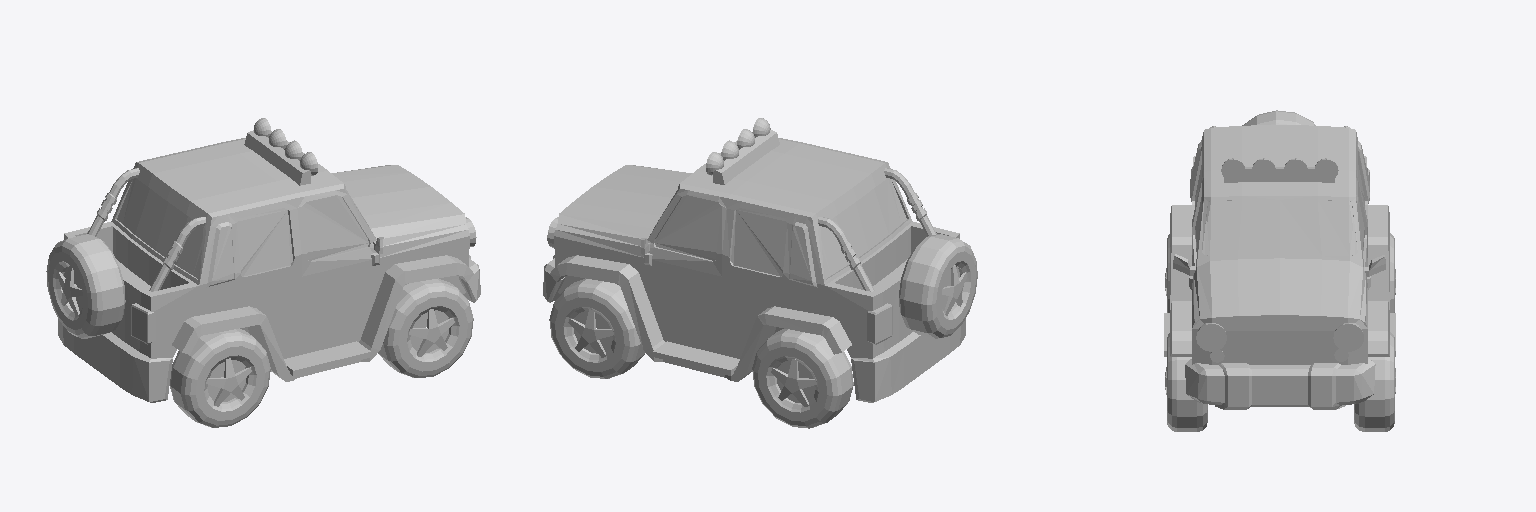
File: car1.obj
The picture shows the model from 3 angles: view 1: azimuth 30°, elevation 25°; view 2: azimuth 150°, elevation 25°; view 3: azimuth 270°, elevation 25°; orthographic projection.
Visible parts, largest first — view 1: Base, Wheel.004, Fender.001, Wheel.003, Wheel.005, Step.001, Roof_lamp_support, Tube.001, Wheel_disk.002, Wheel_disk.003, Rear_Light.001, Tube (+1 smaller); view 2: Base, Wheel.002, Fender, Wheel.001, Wheel.005, Step, Roof_lamp_support, Tube, Wheel_disk.001, Wheel_disk, Rear_Light, Tube.001 (+1 smaller); view 3: Base, Bumper_Front, Fender, Fender.001, Wheel.001, Wheel.003, Wheel.005, Front_Light_Big_L, Front_Light_Big_R, Roof_lamp_support.
Part boxes in pixels (left/top/right/bottom): Base: left=58, top=138, right=469, bottom=402; Wheel.004: left=170, top=328, right=270, bottom=427; Fender.001: left=172, top=255, right=473, bottom=381; Wheel.003: left=378, top=278, right=473, bottom=377; Wheel.005: left=46, top=234, right=125, bottom=338; Step.001: left=284, top=341, right=370, bottom=375; Roof_lamp_support: left=244, top=130, right=310, bottom=185; Tube.001: left=149, top=217, right=205, bottom=291; Wheel_disk.002: left=409, top=309, right=454, bottom=356; Wheel_disk.003: left=206, top=358, right=251, bottom=406; Rear_Light.001: left=131, top=303, right=155, bottom=344; Tube: left=87, top=168, right=139, bottom=236; Base: left=554, top=138, right=965, bottom=402; Wheel.002: left=752, top=329, right=853, bottom=428; Fender: left=550, top=255, right=851, bottom=381; Wheel.001: left=549, top=278, right=645, bottom=378; Wheel.005: left=899, top=234, right=977, bottom=338; Step: left=653, top=341, right=739, bottom=375; Roof_lamp_support: left=713, top=130, right=779, bottom=184; Tube: left=818, top=217, right=874, bottom=291; Wheel_disk.001: left=771, top=359, right=816, bottom=406; Wheel_disk: left=568, top=309, right=613, bottom=357; Rear_Light: left=867, top=303, right=892, bottom=344; Tube.001: left=884, top=168, right=936, bottom=235; Base: left=1190, top=125, right=1369, bottom=364; Bumper_Front: left=1185, top=359, right=1375, bottom=409; Fender: left=1368, top=205, right=1389, bottom=356; Fender.001: left=1170, top=205, right=1191, bottom=356; Wheel.001: left=1354, top=332, right=1394, bottom=431; Wheel.003: left=1167, top=333, right=1207, bottom=431; Wheel.005: left=1242, top=110, right=1315, bottom=125; Front_Light_Big_L: left=1333, top=323, right=1363, bottom=351; Front_Light_Big_R: left=1196, top=323, right=1226, bottom=351; Roof_lamp_support: left=1224, top=167, right=1334, bottom=182.
Bounding box in the file's own units: 4.93 × 2.81 × 2.63.